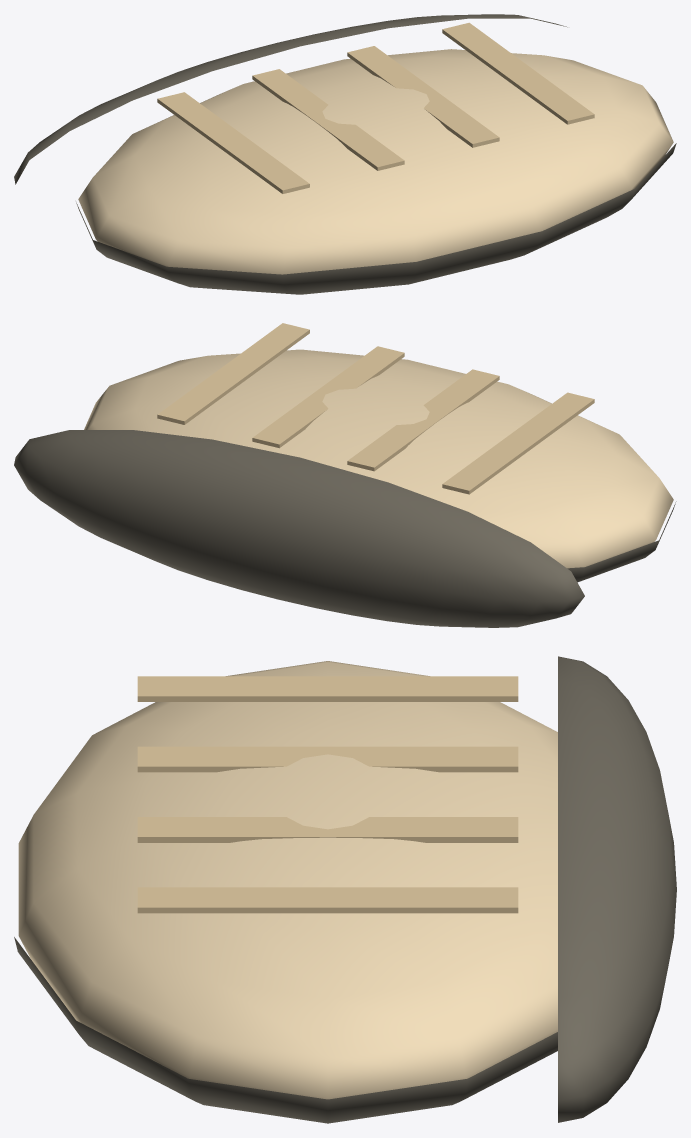
The model's file is presa-bacalao.glb.
3 renders of one model, top to bottom at view 1: azimuth 30°, elevation 25°; view 2: azimuth 150°, elevation 25°; view 3: azimuth 270°, elevation 25°, orthographic. The views are drawn at different scales.
Visible parts, largest first — view 1: carne, piel, filo, veta0, veta3, veta1, veta2; view 2: filo, carne, veta0, veta3, veta1, veta2, piel; view 3: carne, filo, piel, veta3, veta0, veta1, veta2.
Part boxes in pixels (bbox=[...]): carne: bbox=[78, 49, 673, 274]; piel: bbox=[76, 143, 676, 294]; filo: bbox=[14, 14, 567, 184]; veta0: bbox=[157, 92, 309, 193]; veta3: bbox=[442, 22, 594, 124]; veta1: bbox=[252, 69, 404, 170]; veta2: bbox=[347, 46, 499, 147]; filo: bbox=[14, 430, 584, 627]; carne: bbox=[84, 349, 673, 568]; veta0: bbox=[442, 392, 594, 494]; veta3: bbox=[157, 323, 309, 424]; veta1: bbox=[347, 369, 499, 471]; veta2: bbox=[252, 346, 404, 448]; piel: bbox=[567, 501, 676, 582]; carne: bbox=[18, 661, 557, 1099]; filo: bbox=[558, 656, 676, 1122]; piel: bbox=[14, 937, 557, 1123]; veta3: bbox=[137, 887, 518, 913]; veta0: bbox=[137, 676, 518, 701]; veta1: bbox=[137, 746, 518, 772]; veta2: bbox=[137, 817, 518, 842].
Bounding box in the file's own units: 0.63 × 0.146 × 0.4179.
